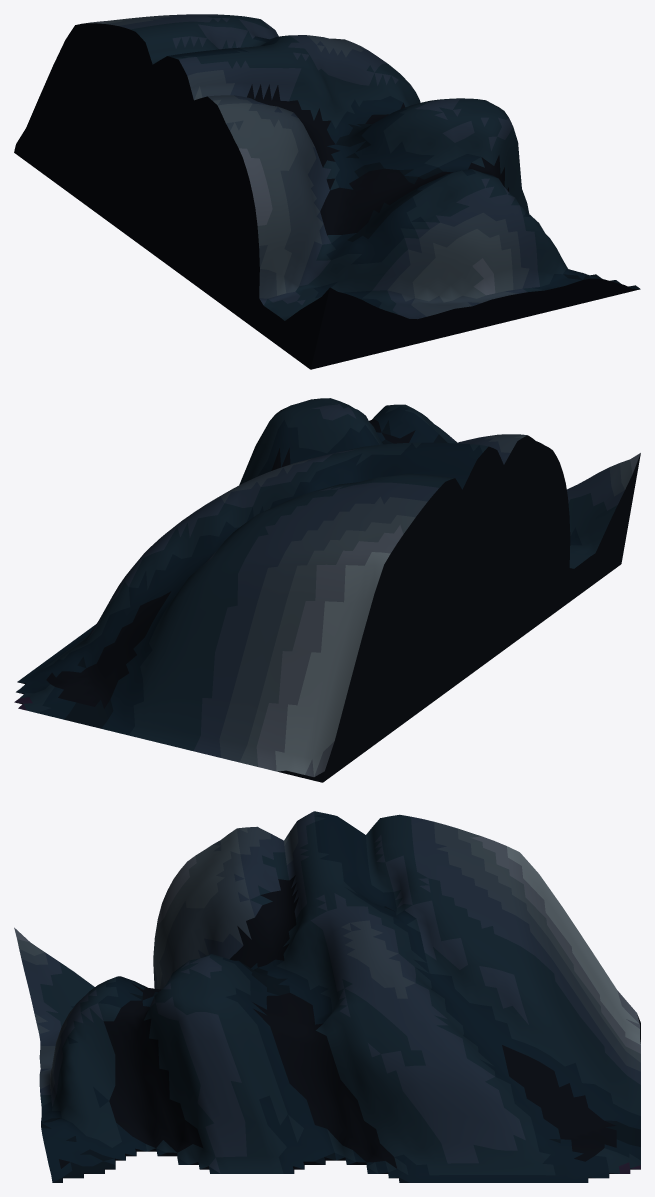
The model's file is gyges_maw_85.glb.
3 renders of one model, top to bottom at view 1: azimuth 30°, elevation 25°; view 2: azimuth 150°, elevation 25°; view 3: azimuth 270°, elevation 25°, orthographic.
Parts seen in each view (by area): view 1: gyges_maw_85; view 2: gyges_maw_85; view 3: gyges_maw_85.
Boxes of the visible parts, box(x1,y1,x2,y2) form: gyges_maw_85: box(14, 14, 640, 369); gyges_maw_85: box(14, 398, 640, 782); gyges_maw_85: box(14, 811, 640, 1182).
Size of the model in its own units: 18 by 11.12 by 29.83.
